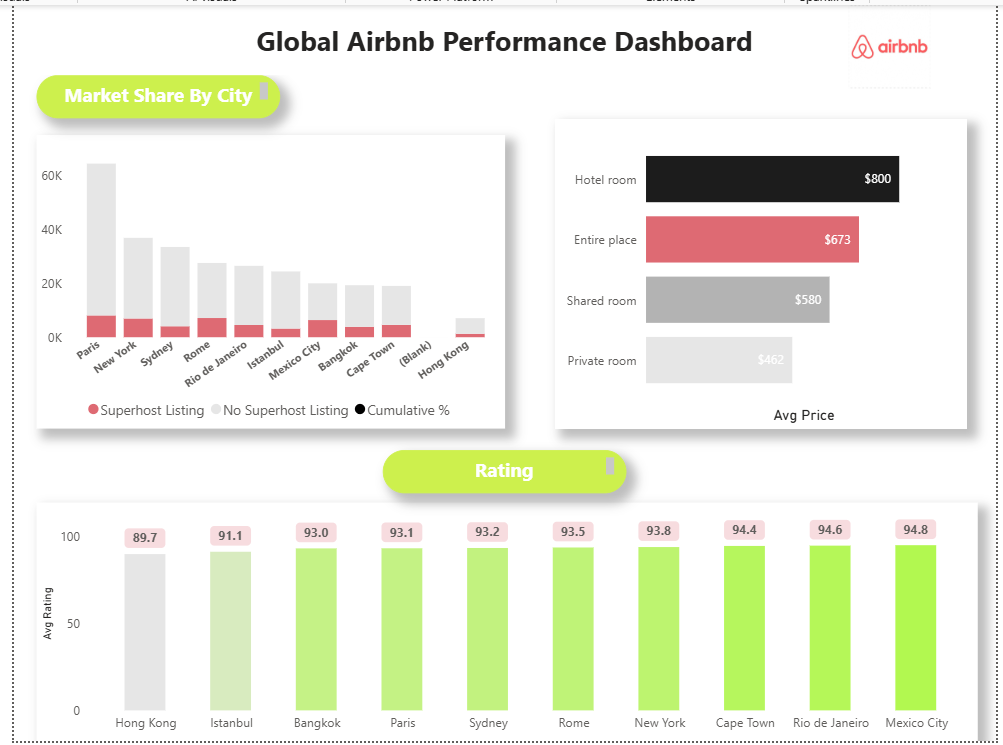

Layout of this report page (visuals, bound fields, positions):
{"tool":"powerbi","page":{"name":"Rating","canvas":[960,720],"ordinal":1},"visuals":[{"type":"columnChart","fields":{"Category":["Listings.city"],"Y":["Listings.Superhost Listing","Listings.No Superhost Listing","Listings.Cumulative %"]},"box":[22,127.2,458.6,287.4],"z":0},{"type":"textbox","box":[22,68.5,238.5,42.8],"z":1000},{"type":"barChart","fields":{"Category":["Listings.room_type"],"Y":["Listings.Avg Price"]},"box":[529.5,111.3,403.5,303.3],"z":2000},{"type":"columnChart","fields":{"Y":["Listings.Avg RAting"],"Category":["Listings.city"]},"box":[22,486.7,920.8,233.6],"z":3000},{"type":"textbox","box":[360.7,435.3,238.5,42.8],"z":4000},{"type":"textbox","box":[-130.8,11,1221.6,57.5],"z":5000},{"type":"image","box":[753.3,0,206.7,81.9],"z":5001}]}

Visuals, with their boxes on the page's 960x720 design canvas (x1, y1, x2, y2). These are canvas units, not pixel positions in the 1003x745 screenshot, which may show the page scaled, cropped or inside an application window:
columnChart - Listings.city x Listings.Superhost Listing: select_region(22, 127, 481, 415)
textbox: select_region(22, 68, 260, 111)
barChart - Listings.room_type x Listings.Avg Price: select_region(530, 111, 933, 415)
columnChart - Listings.Avg RAting x Listings.city: select_region(22, 487, 943, 720)
textbox: select_region(361, 435, 599, 478)
textbox: select_region(-131, 11, 1091, 68)
image: select_region(753, 0, 960, 82)
